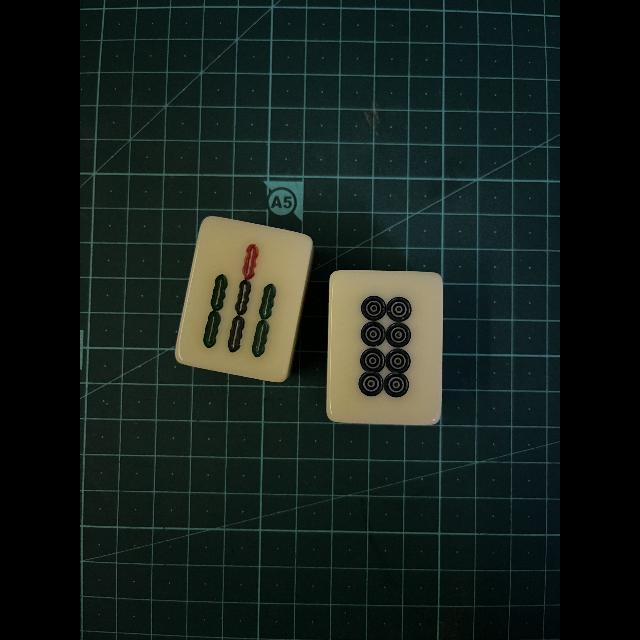b7: (187, 226, 296, 370)
d8: (332, 273, 438, 421)
